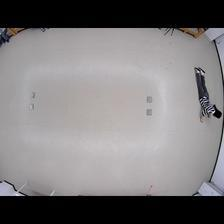fall: (193, 66, 223, 122)
